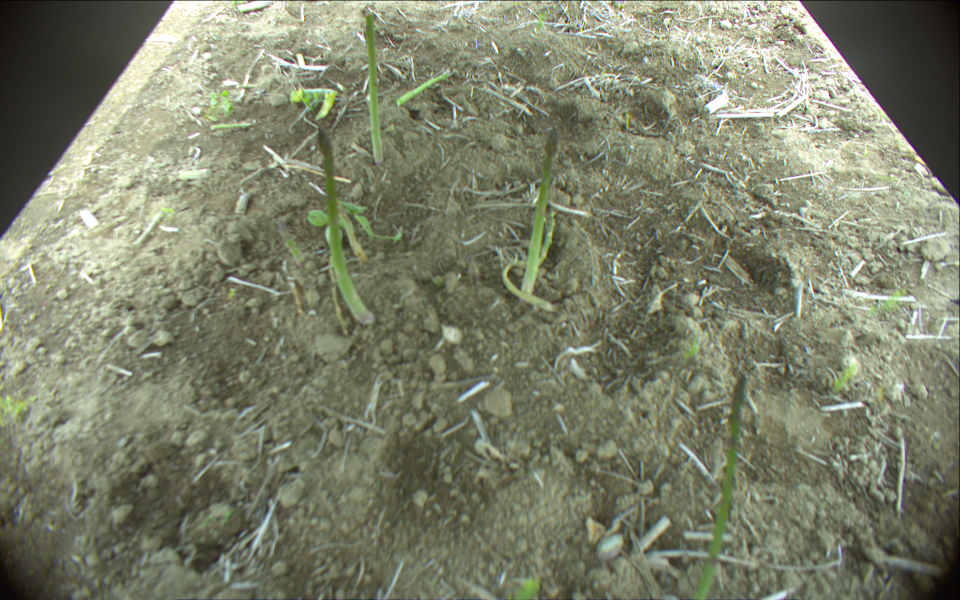aspa: (313, 127, 374, 326), (692, 374, 745, 600), (502, 205, 558, 308), (527, 126, 559, 296), (363, 13, 389, 163), (397, 66, 454, 102)
